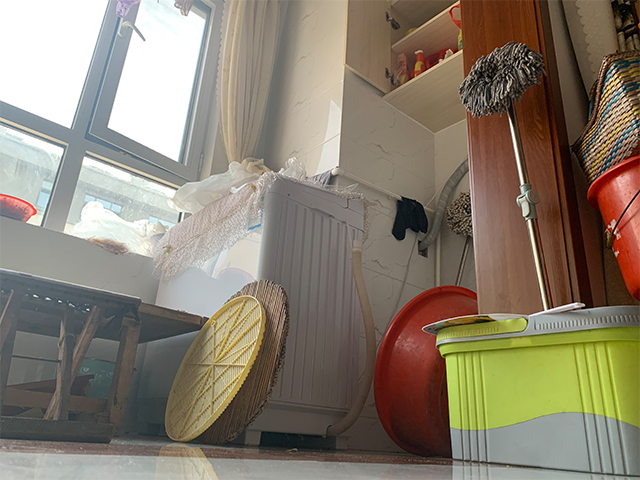curtain: (215, 2, 275, 168)
stool: (1, 268, 142, 445)
